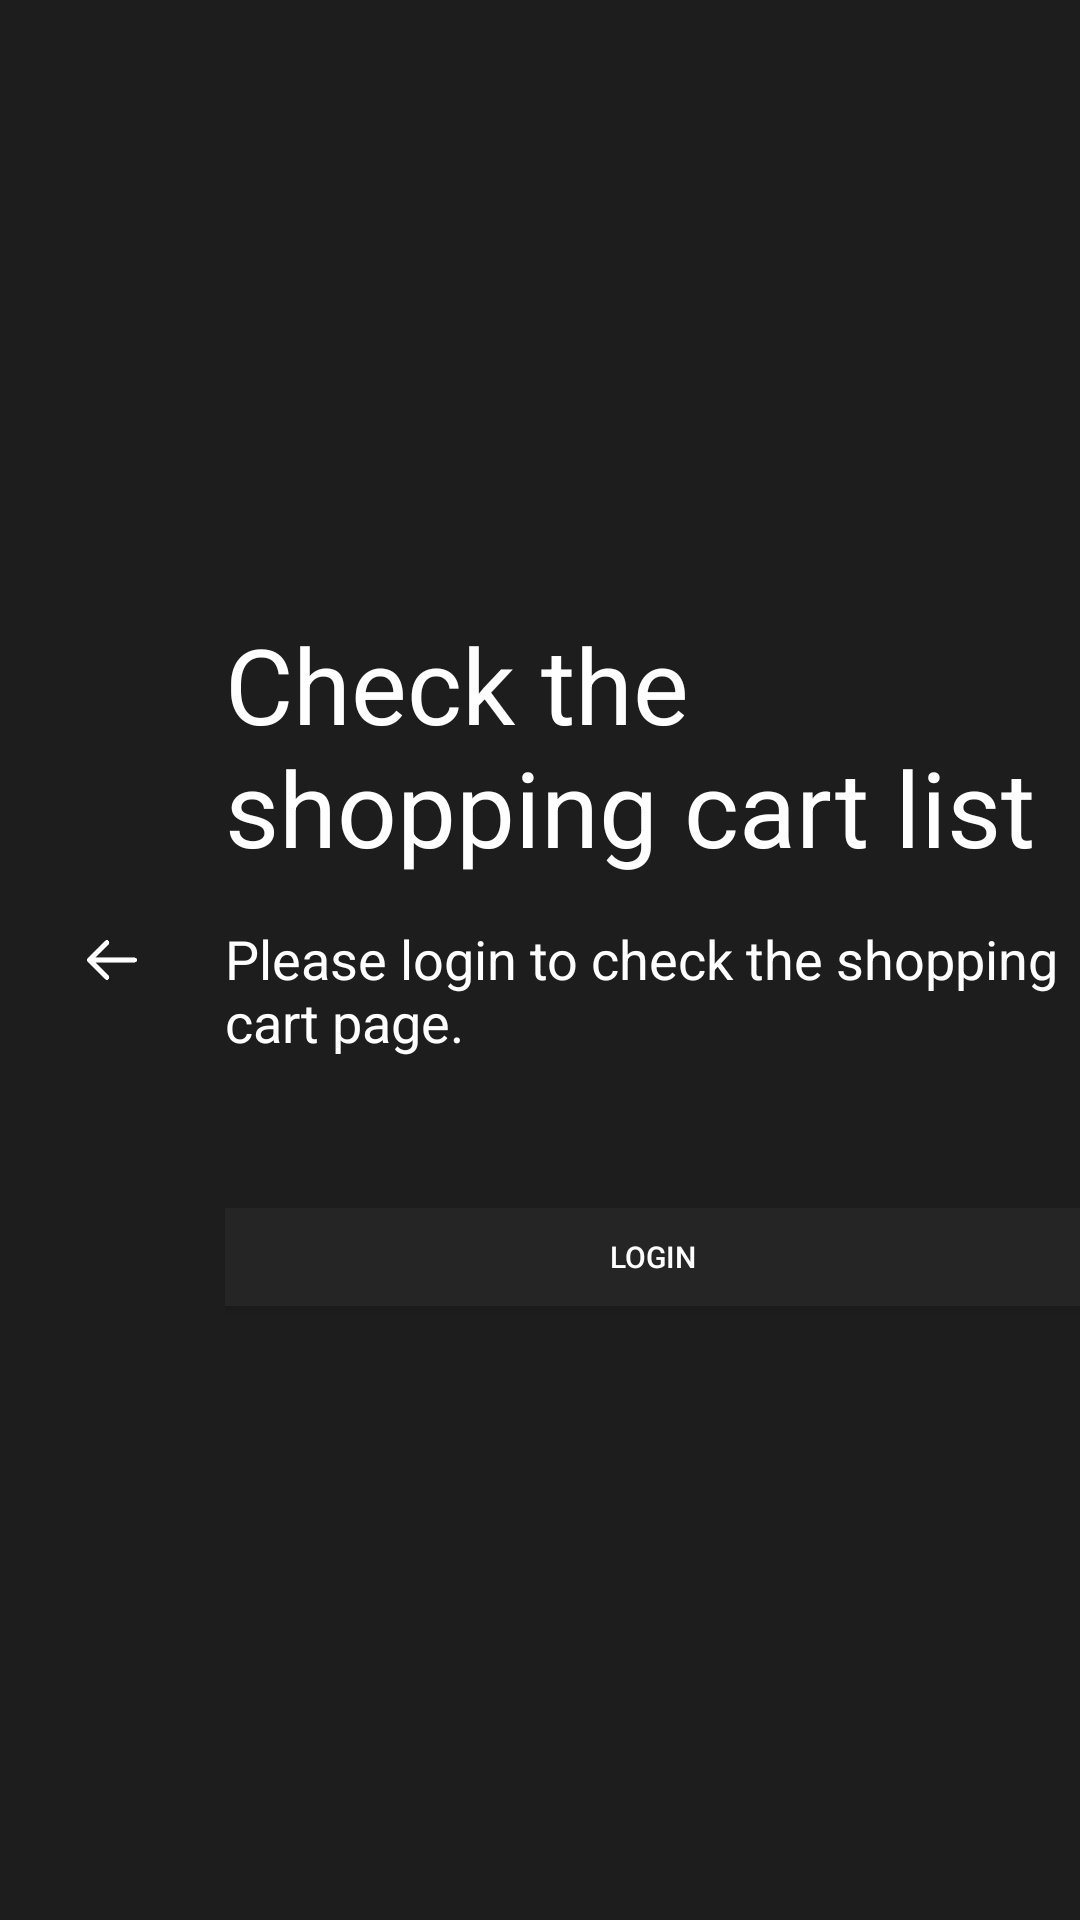

Screen size 1080 x 1920. Icon name, then its box in pixels as box(x1, y1, x2, y2):
backarrow: box(87, 940, 137, 980)
